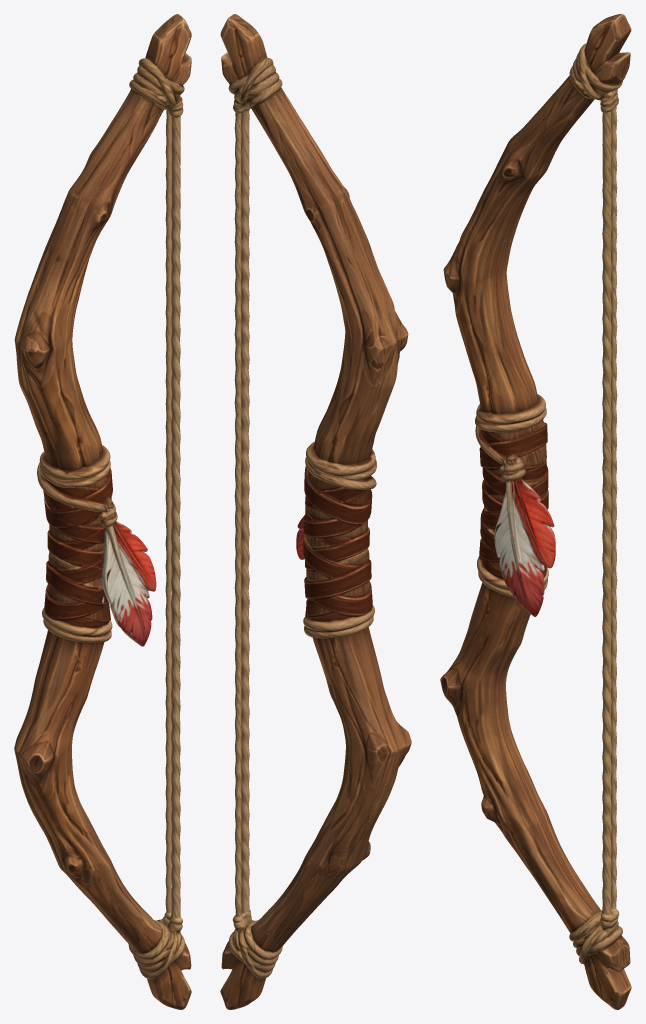
The model's file is Bogen.glb.
The picture shows the model from 3 angles, left to right: view 1: azimuth 30°, elevation 25°; view 2: azimuth 150°, elevation 25°; view 3: azimuth 330°, elevation 25°; orthographic projection.
Bounding box in the file's own units: 0.35 × 1.9 × 0.1626.
Materials: 1 (1 with a texture image).
